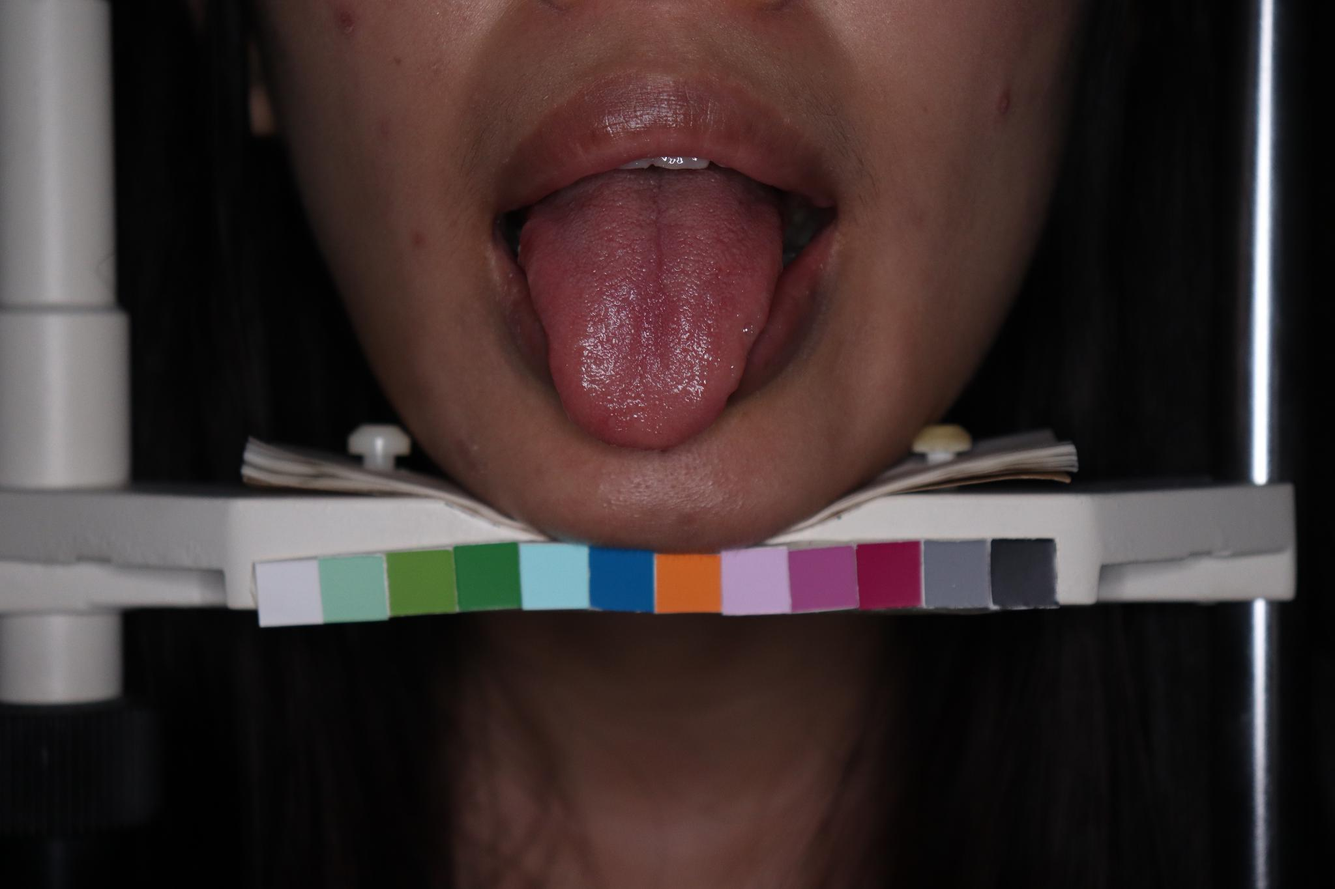hongshe: (518, 172, 780, 450)
